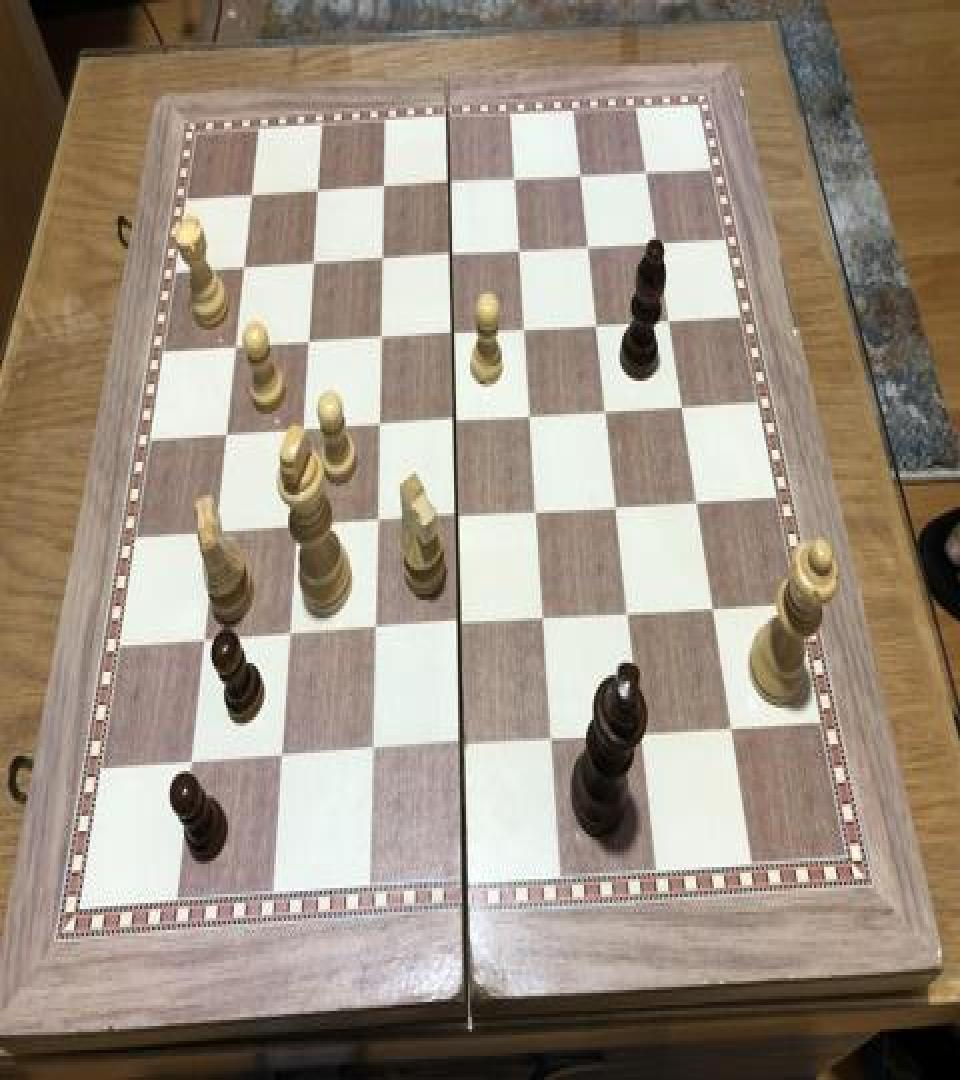xcorner: (203, 514, 227, 551), (361, 610, 385, 647), (276, 616, 300, 653), (629, 712, 653, 749), (539, 718, 563, 755), (178, 742, 202, 779), (635, 154, 659, 190), (569, 159, 593, 195), (503, 164, 527, 200), (437, 168, 461, 204), (305, 177, 329, 213), (239, 182, 263, 218), (645, 225, 669, 261), (576, 230, 600, 266), (507, 234, 531, 270), (438, 238, 462, 274), (369, 243, 393, 279), (300, 248, 324, 284), (231, 252, 255, 288), (657, 302, 681, 338), (585, 308, 609, 344), (512, 312, 536, 348), (440, 316, 464, 352), (367, 321, 391, 357), (295, 326, 319, 362), (223, 332, 247, 368), (671, 387, 695, 423), (594, 393, 618, 429), (518, 398, 542, 434), (442, 402, 466, 438), (366, 408, 390, 444), (213, 418, 237, 454), (685, 482, 709, 518), (605, 488, 629, 524), (524, 494, 548, 530), (444, 498, 468, 534), (363, 504, 387, 540), (283, 508, 307, 544), (702, 588, 726, 624), (616, 594, 640, 630), (531, 600, 555, 636), (446, 604, 470, 640), (191, 621, 215, 657), (720, 706, 744, 742), (449, 724, 473, 760), (358, 730, 382, 766), (268, 736, 292, 772), (371, 173, 395, 208), (289, 413, 313, 448)
